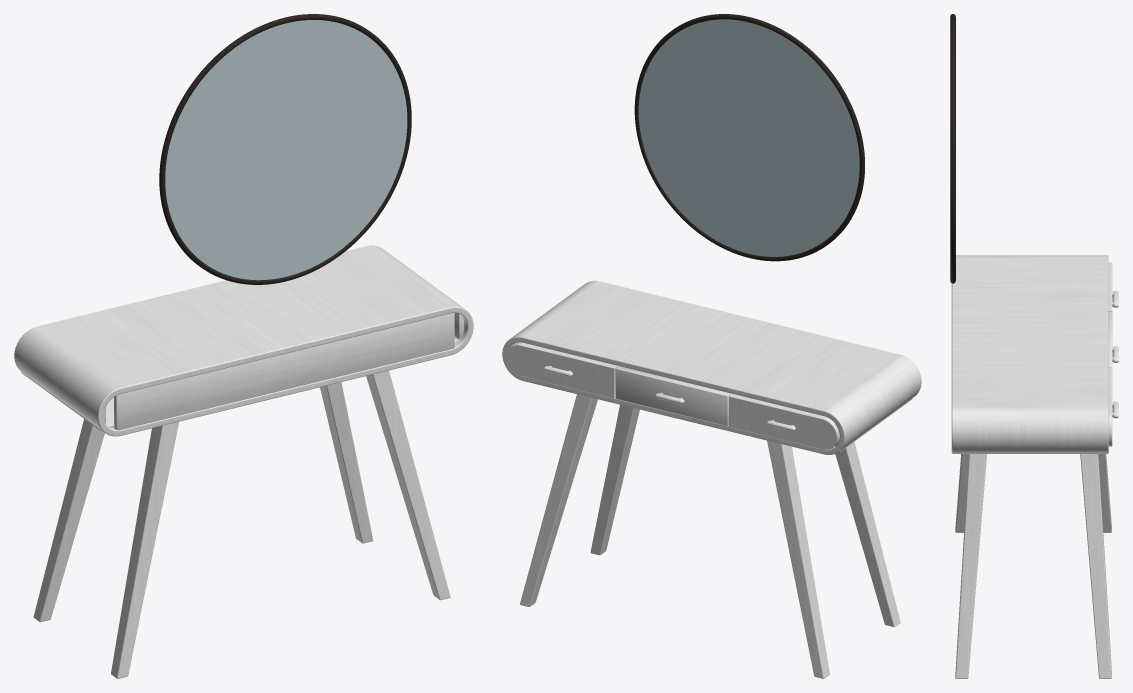
Rendered from console-rounded-mirror.glb.
The picture shows the model from 3 angles, left to right: view 1: azimuth 30°, elevation 25°; view 2: azimuth 150°, elevation 25°; view 3: azimuth 270°, elevation 25°; orthographic projection. The views are drawn at different scales.
Visible parts, largest first — view 1: Wall mirror glass, Continuous rounded console shell, Cabinet rear, Splayed console foot, Splayed console foot.002, Thin round mirror frame, Splayed console foot.001, Splayed console foot.003; view 2: Wall mirror glass, Continuous rounded console shell, Splayed console foot.001, Splayed console foot.003, Thin round mirror frame, Central drawer front, Splayed console foot, Rounded outer drawer front, Rounded outer drawer front.001, Splayed console foot.002; view 3: Continuous rounded console shell, Splayed console foot.002, Splayed console foot.003, Thin round mirror frame, Splayed console foot, Splayed console foot.001, Rounded outer drawer front.001, Drawer bottom.002, Central drawer front.
Boxes of the visible parts, <box> form: Wall mirror glass: <box>165,20,407,280</box>; Continuous rounded console shell: <box>14,245,473,436</box>; Cabinet rear: <box>114,313,454,430</box>; Splayed console foot: <box>111,422,178,678</box>; Splayed console foot.002: <box>366,370,450,600</box>; Thin round mirror frame: <box>159,14,411,284</box>; Splayed console foot.001: <box>33,419,104,622</box>; Splayed console foot.003: <box>320,382,373,543</box>; Wall mirror glass: <box>638,19,859,256</box>; Continuous rounded console shell: <box>502,280,921,454</box>; Splayed console foot.001: <box>767,440,829,678</box>; Splayed console foot.003: <box>520,394,597,606</box>; Thin round mirror frame: <box>634,14,864,261</box>; Central drawer front: <box>615,366,730,425</box>; Splayed console foot: <box>835,442,900,627</box>; Rounded outer drawer front: <box>729,394,839,449</box>; Rounded outer drawer front.001: <box>506,342,617,398</box>; Splayed console foot.002: <box>590,405,639,555</box>; Continuous rounded console shell: <box>951,255,1108,453</box>; Splayed console foot.002: <box>955,454,986,678</box>; Splayed console foot.003: <box>1080,454,1111,678</box>; Thin round mirror frame: <box>950,14,955,283</box>; Splayed console foot: <box>955,454,968,532</box>; Splayed console foot.001: <box>1098,454,1111,532</box>; Rounded outer drawer front.001: <box>1108,367,1112,446</box>; Drawer bottom.002: <box>958,452,1106,453</box>; Central drawer front: <box>1108,311,1112,367</box>.
Bounding box in the file's own units: 1.14 × 1.81 × 0.4785.
3 materials, 1 textured.
